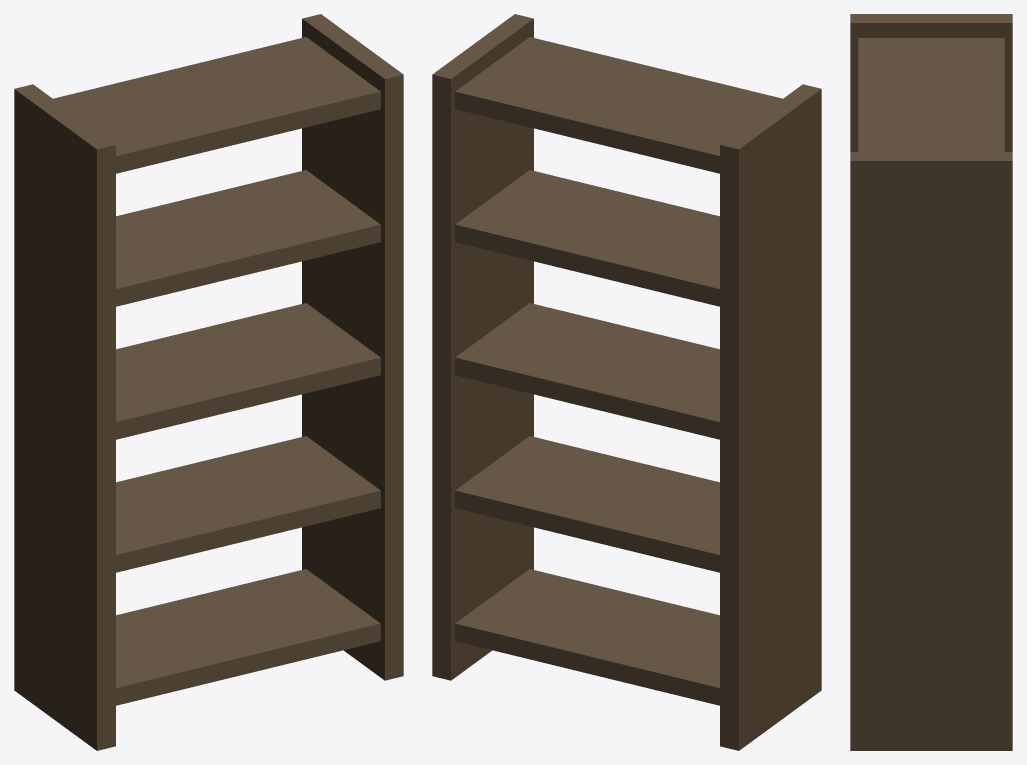
File: SD_Prop_Shelf_01.fbx
3 views of the same model, side by side, from view 1: azimuth 30°, elevation 25°; view 2: azimuth 150°, elevation 25°; view 3: azimuth 270°, elevation 25° (orthographic).
Visible parts, largest first — view 1: SD_Prop_Shelf_01; view 2: SD_Prop_Shelf_01; view 3: SD_Prop_Shelf_01.
Part boxes in pixels (box(x1,y1,x2,y2)): SD_Prop_Shelf_01: box(14, 14, 403, 750); SD_Prop_Shelf_01: box(432, 14, 821, 750); SD_Prop_Shelf_01: box(850, 14, 1012, 750).
Bounding box in the file's own units: 1.65 × 3.1 × 0.7728.
